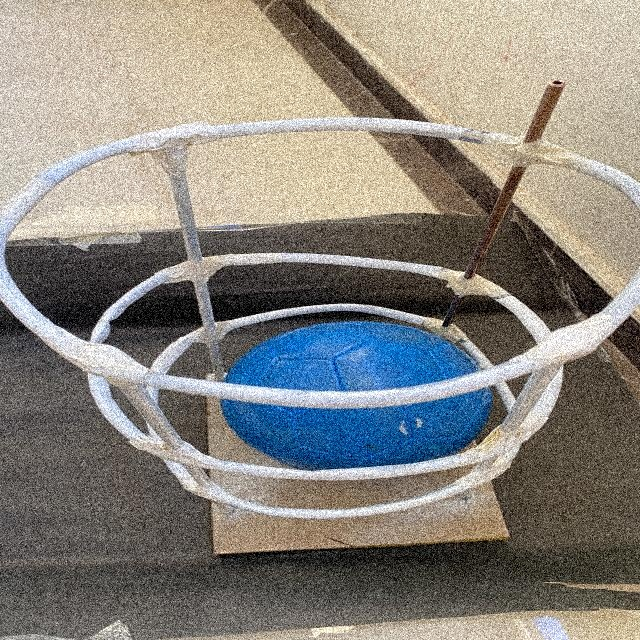blue_ball: (227, 320, 497, 468)
silo: (0, 107, 640, 548)
